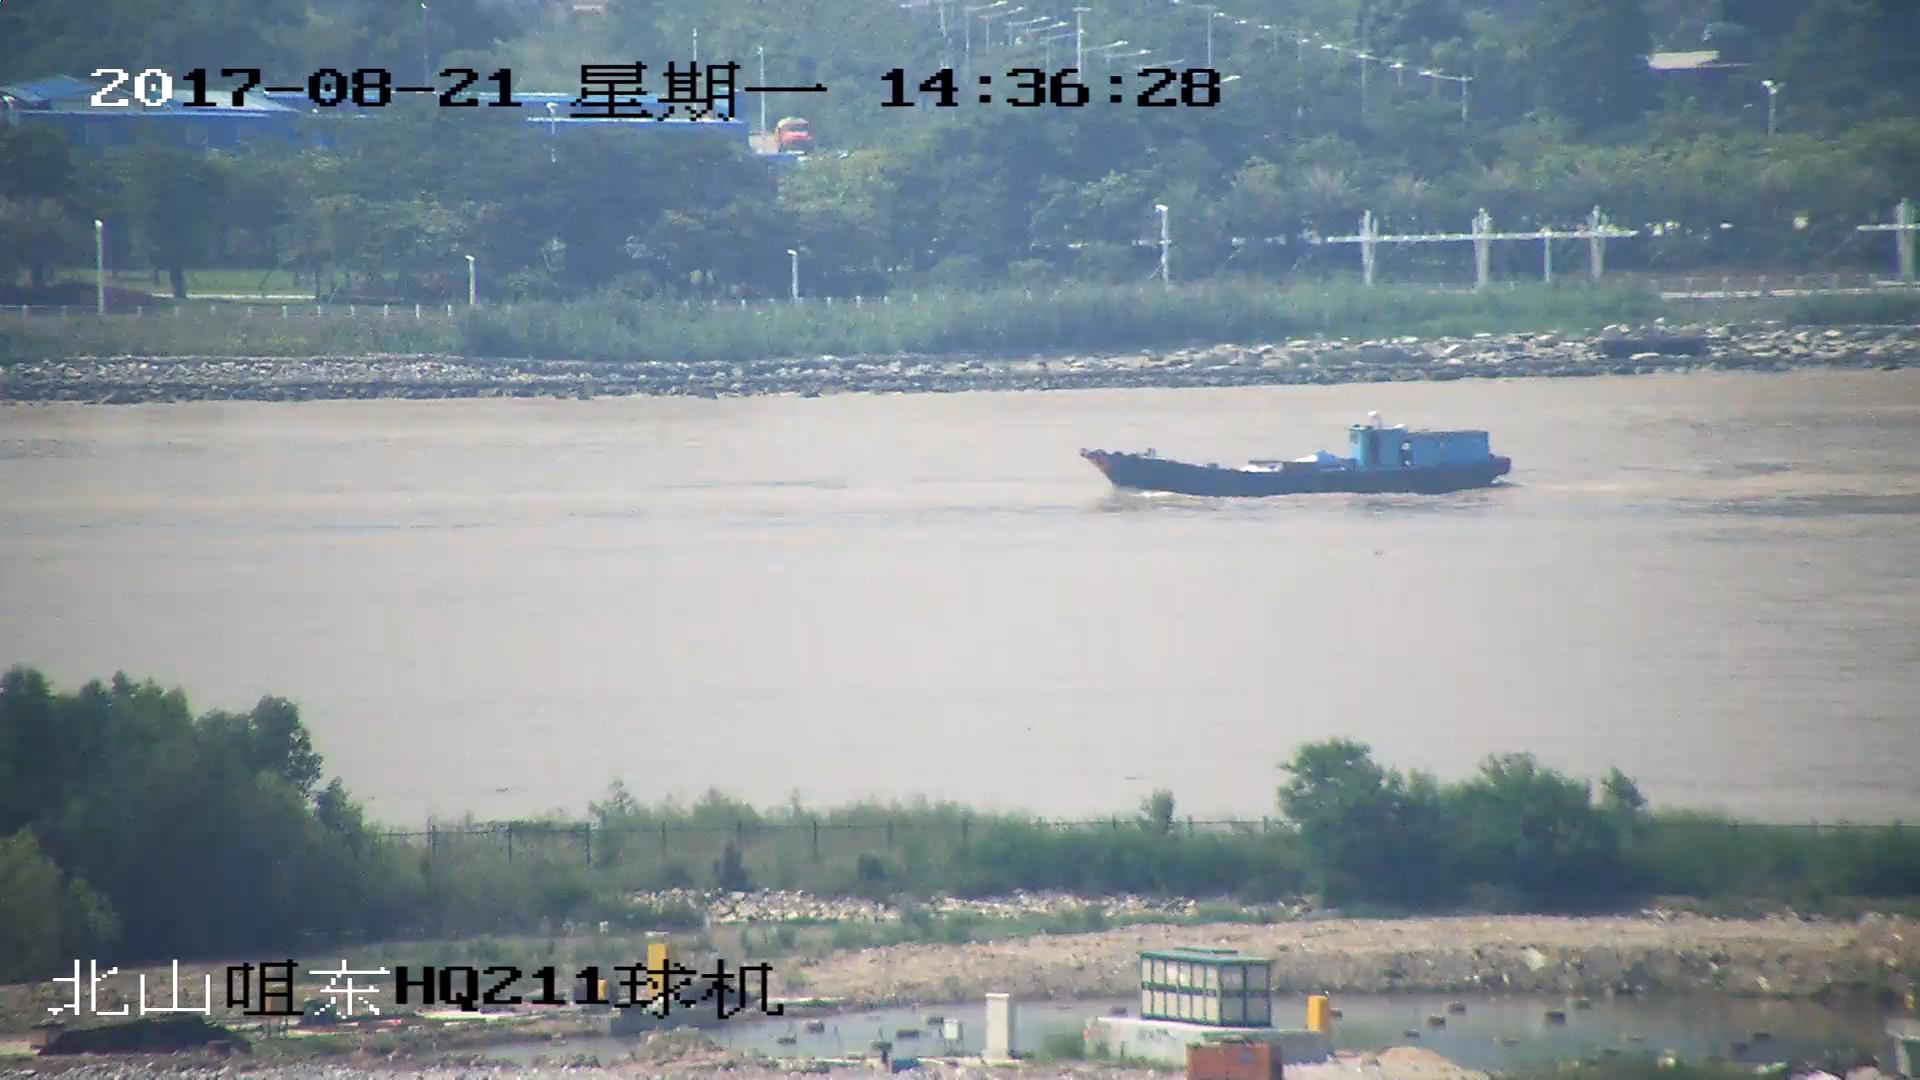fishing boat: (1082, 415, 1511, 500)
